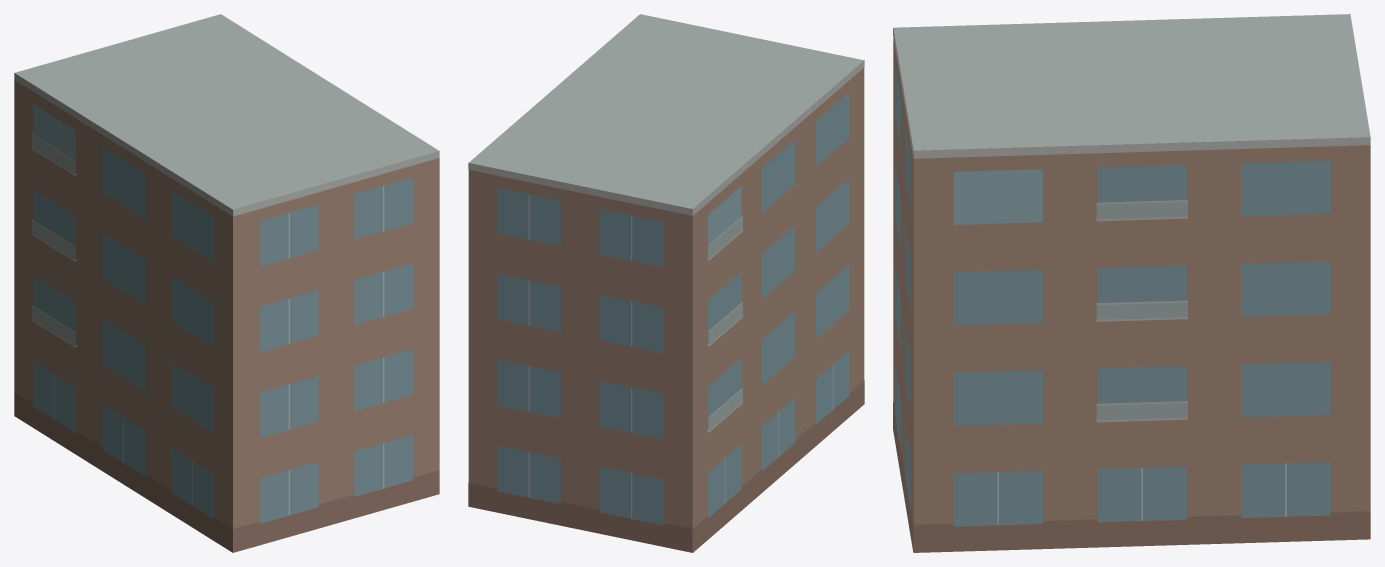
The model's file is residential-8d4df8bb-45bd-4d1d-8f0d-4493672d7a00.glb.
3 renders of one model, left to right at view 1: azimuth 30°, elevation 25°; view 2: azimuth 150°, elevation 25°; view 3: azimuth 270°, elevation 25°, orthographic. The views are drawn at different scales.
Parts seen in each view (by area): view 1: residential-8d4df8bb-45bd-4d1d-8f0d-4493672d7a00.tmp; view 2: residential-8d4df8bb-45bd-4d1d-8f0d-4493672d7a00.tmp; view 3: residential-8d4df8bb-45bd-4d1d-8f0d-4493672d7a00.tmp.
Boxes of the visible parts, x1,y1,x2,y2 form: residential-8d4df8bb-45bd-4d1d-8f0d-4493672d7a00.tmp: (14,14,439,552); residential-8d4df8bb-45bd-4d1d-8f0d-4493672d7a00.tmp: (468,14,864,552); residential-8d4df8bb-45bd-4d1d-8f0d-4493672d7a00.tmp: (893,14,1370,552).
Bounding box in the file's own units: 8.9 × 12.2 × 13.14.
